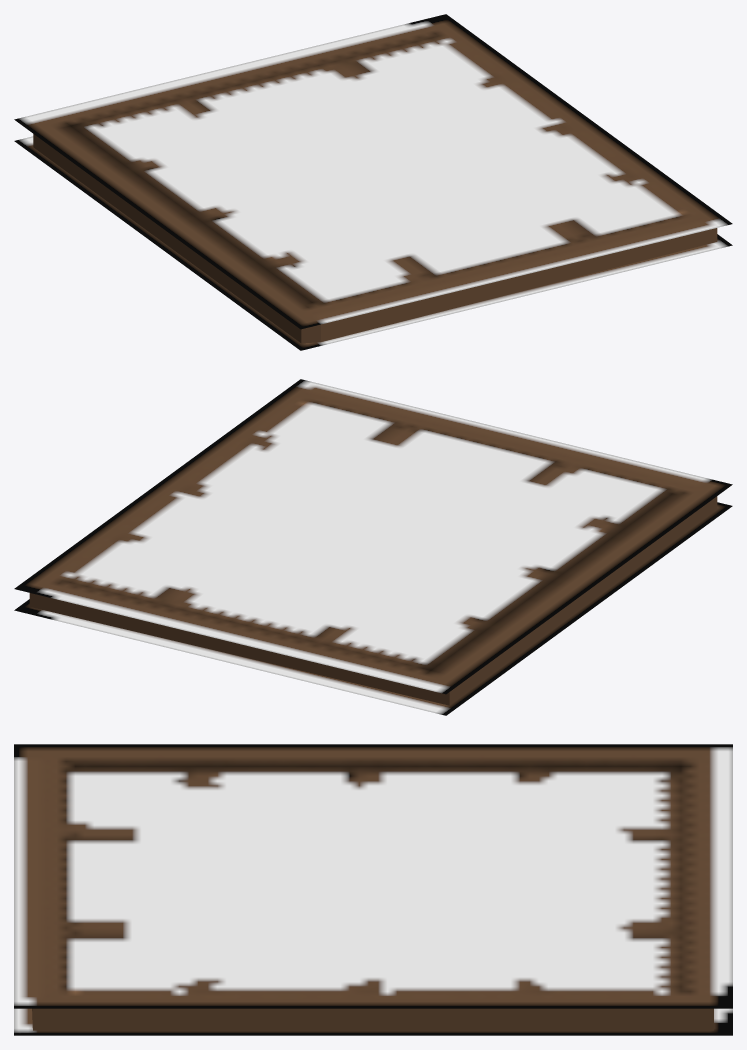
The model's file is pz_native_fixtures_windows_wood_113_frame.obj.
3 renders of one model, top to bottom at view 1: azimuth 30°, elevation 25°; view 2: azimuth 150°, elevation 25°; view 3: azimuth 270°, elevation 25°, orthographic. The views are drawn at different scales.
Visible parts, largest first — view 1: pz_native_fixtures_windows_wood_113_frame; view 2: pz_native_fixtures_windows_wood_113_frame; view 3: pz_native_fixtures_windows_wood_113_frame.
Boxes of the visible parts, x1,y1,x2,y2 form: pz_native_fixtures_windows_wood_113_frame: [14, 14, 732, 350]; pz_native_fixtures_windows_wood_113_frame: [14, 379, 732, 715]; pz_native_fixtures_windows_wood_113_frame: [14, 744, 732, 1035].
Bounding box in the file's own units: 0.8438 × 0.04 × 0.9696.
1 material, 1 textured.
